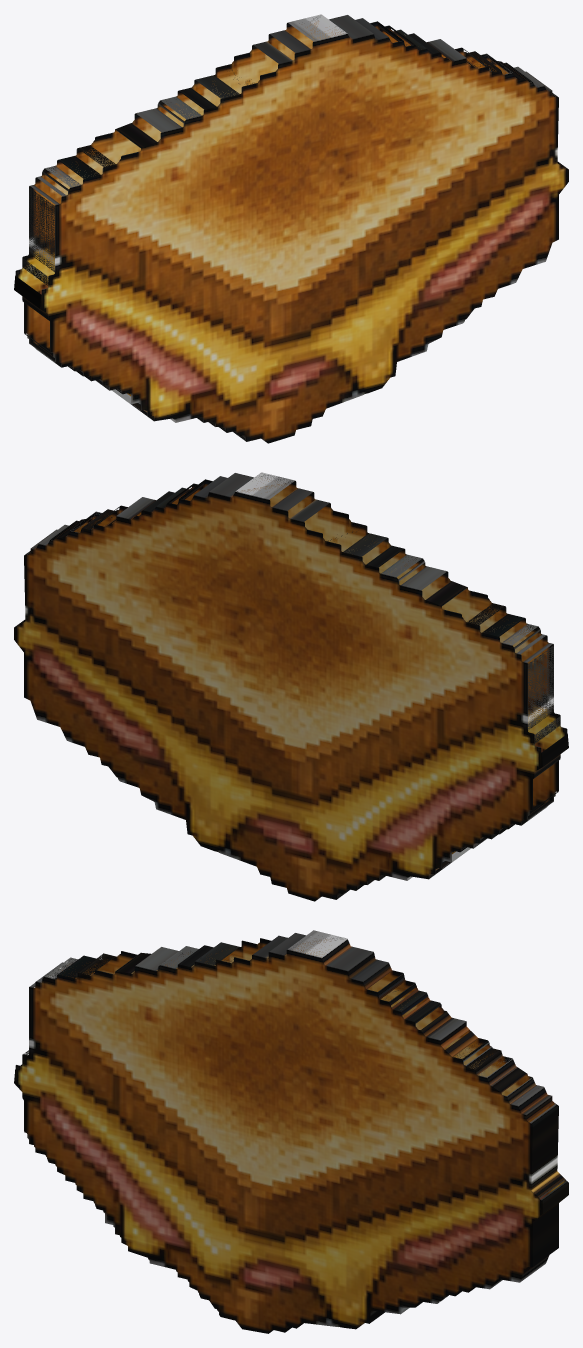
File: sandwich.fbx
3 views of the same model, one above another, from view 1: azimuth 30°, elevation 25°; view 2: azimuth 150°, elevation 25°; view 3: azimuth 330°, elevation 25° (orthographic).
Visible parts, largest first — view 1: geometry_0; view 2: geometry_0; view 3: geometry_0.
Part boxes in pixels (box(x1,y1,x2,y2)): geometry_0: box(14, 14, 568, 443); geometry_0: box(14, 472, 568, 901); geometry_0: box(14, 930, 568, 1333).
Bounding box in the file's own units: 3.2 × 2.26 × 0.2724.
Materials: 1 (1 with a texture image).
